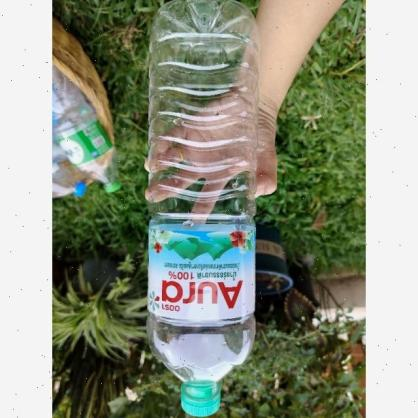bottle: (145, 0, 258, 418)
cap: (180, 384, 220, 416)
label: (146, 222, 255, 322)
